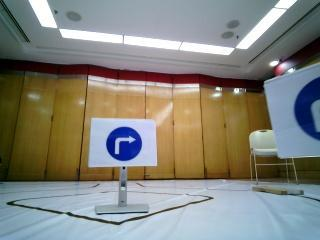right: (88, 117, 156, 166)
